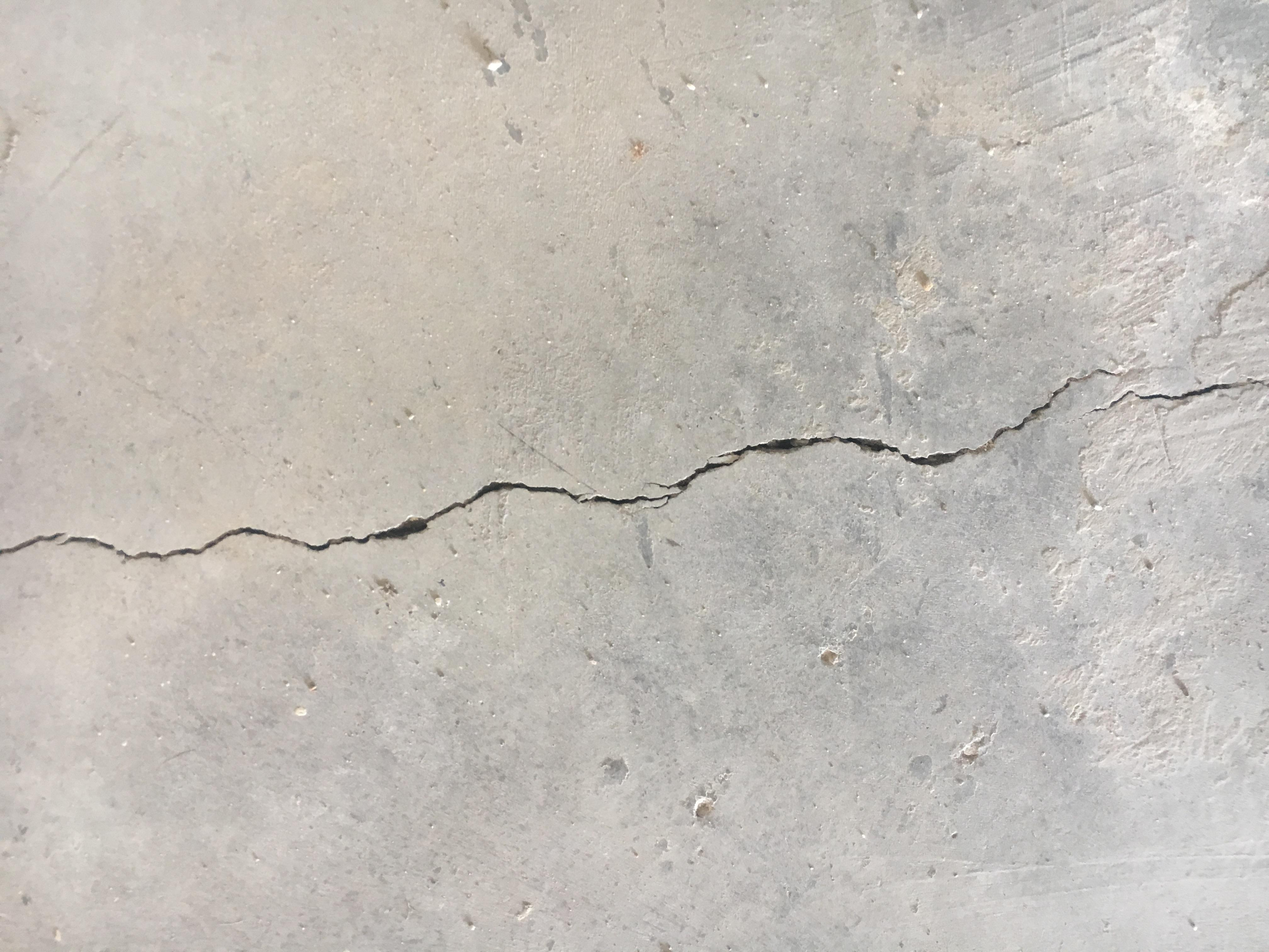Horizontal Settlement Crack: (4, 361, 1265, 569)
